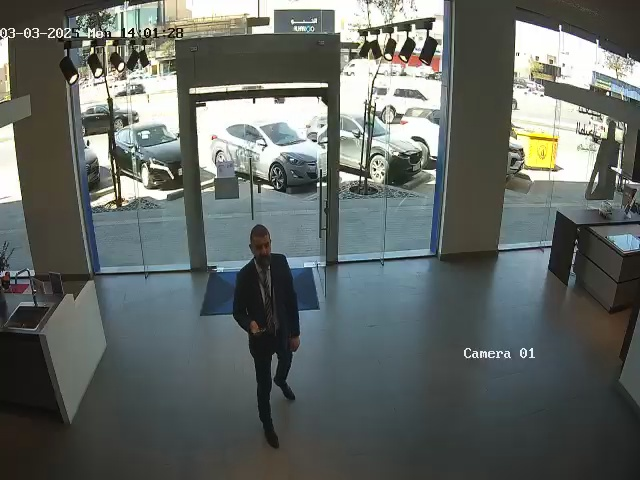employee: (232, 223, 301, 450)
